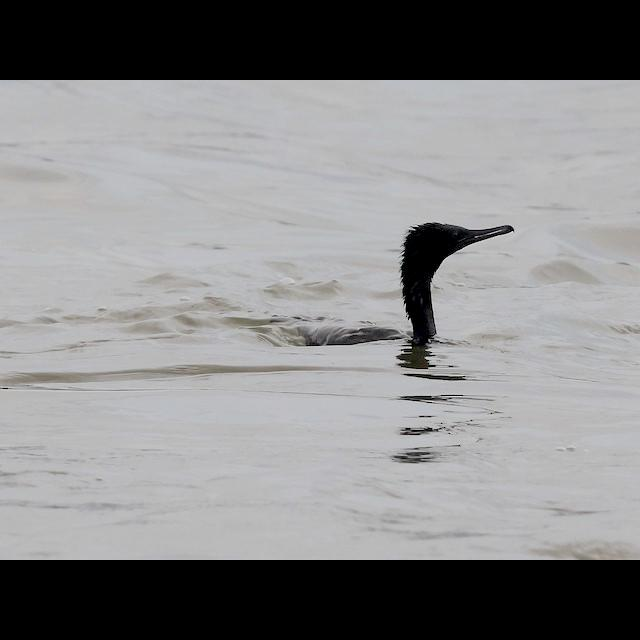cormorant: (275, 212, 517, 351)
